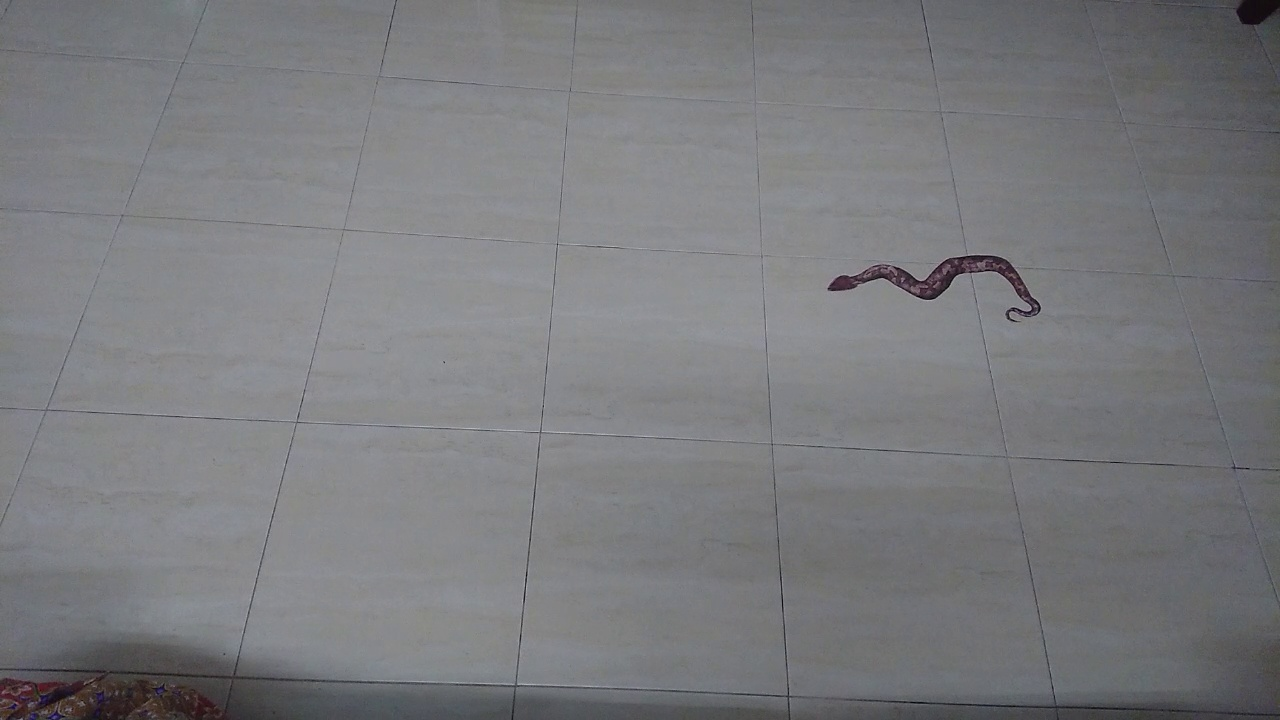snake: (814, 241, 1052, 335)
